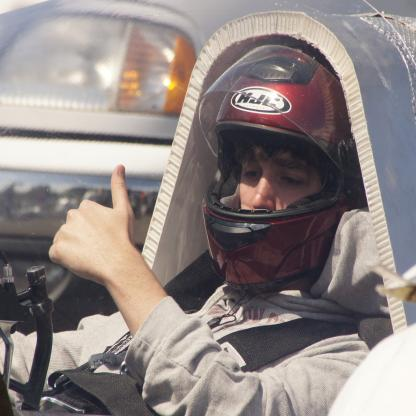Helmet: (199, 28, 359, 302)
